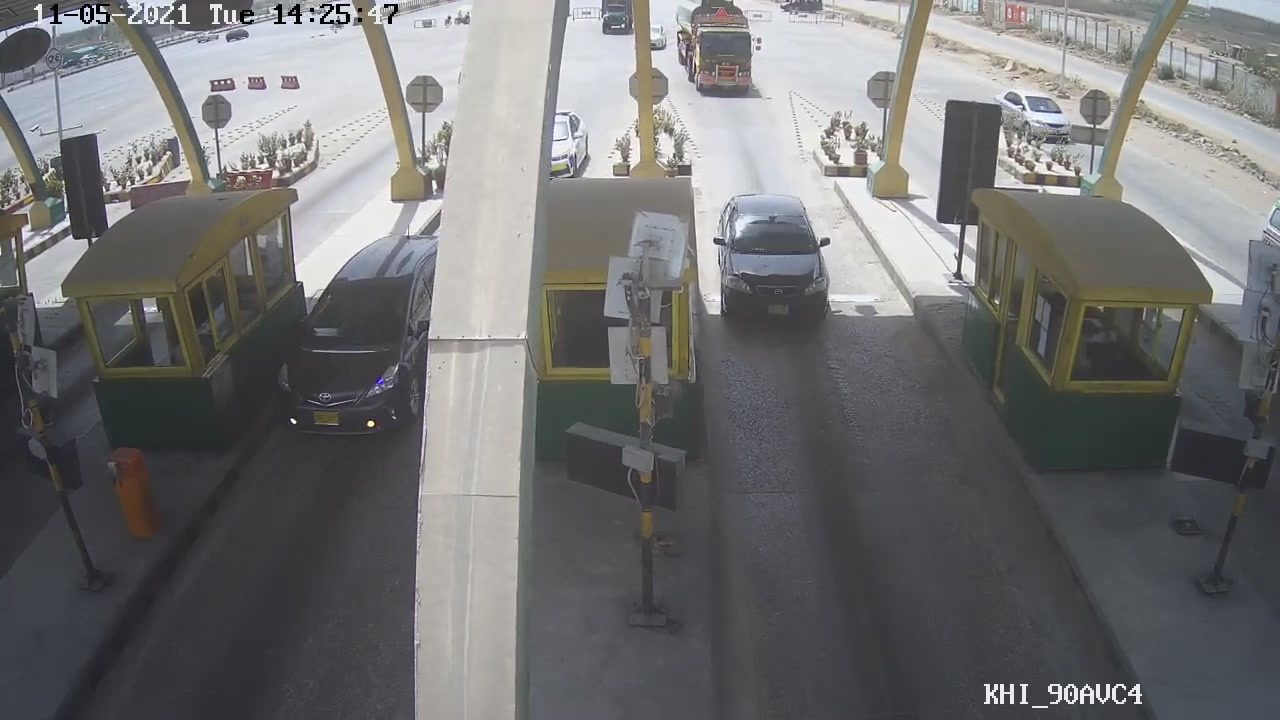F1: (705, 190, 840, 318)
